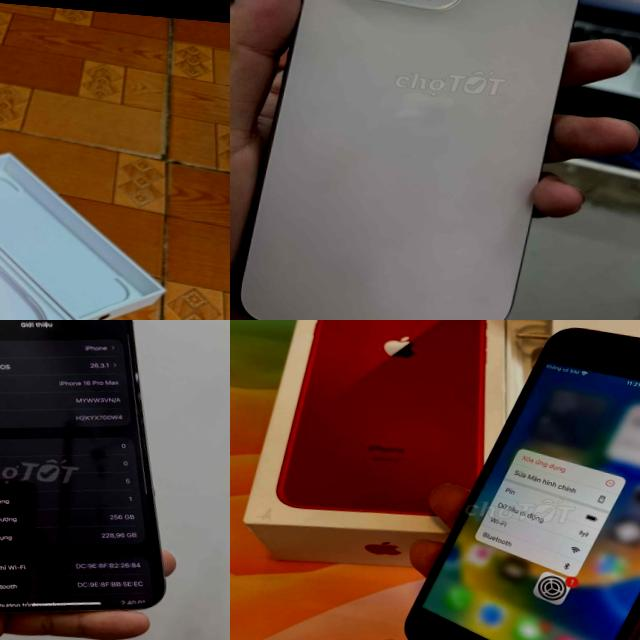gen_16: (238, 0, 577, 320), (0, 320, 192, 630)
gen_7_8: (391, 320, 640, 640)
